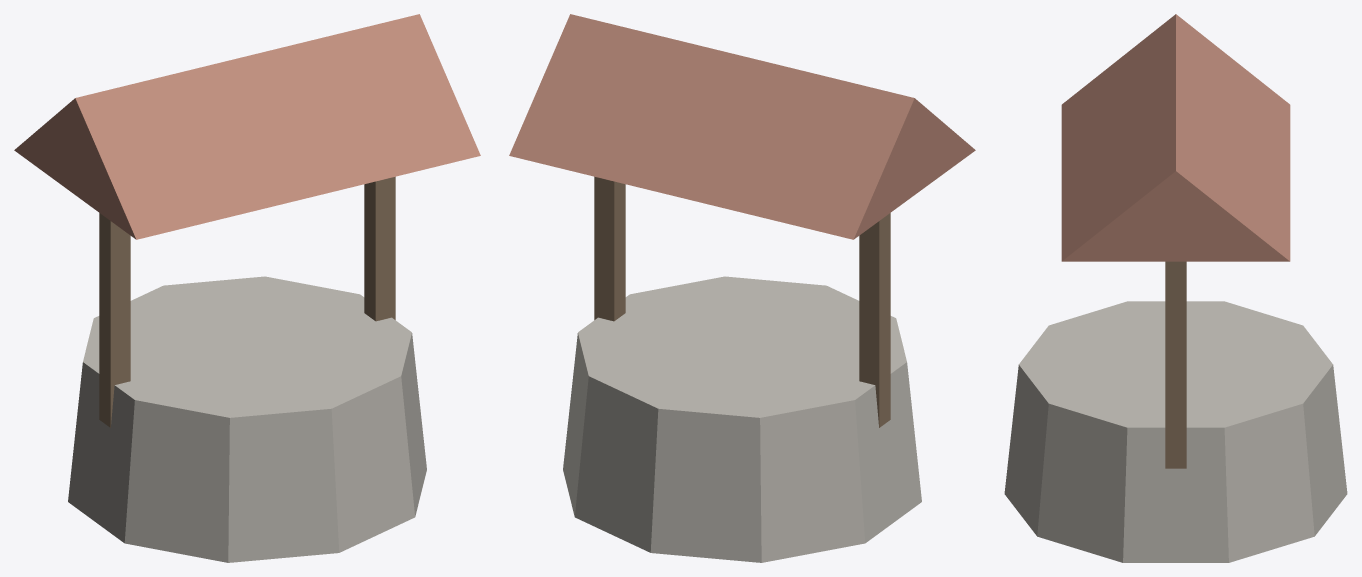
3 views of the same model, side by side, from view 1: azimuth 30°, elevation 25°; view 2: azimuth 150°, elevation 25°; view 3: azimuth 270°, elevation 25° (orthographic). The views are drawn at different scales.
Parts seen in each view (by area): view 1: structure.well; view 2: structure.well; view 3: structure.well.
Part boxes in pixels (left/top/right/bottom): structure.well: left=14, top=14, right=480, bottom=562; structure.well: left=509, top=14, right=975, bottom=562; structure.well: left=1004, top=14, right=1347, bottom=562.
Bounding box in the file's own units: 2.6 × 3.1 × 2.4.
